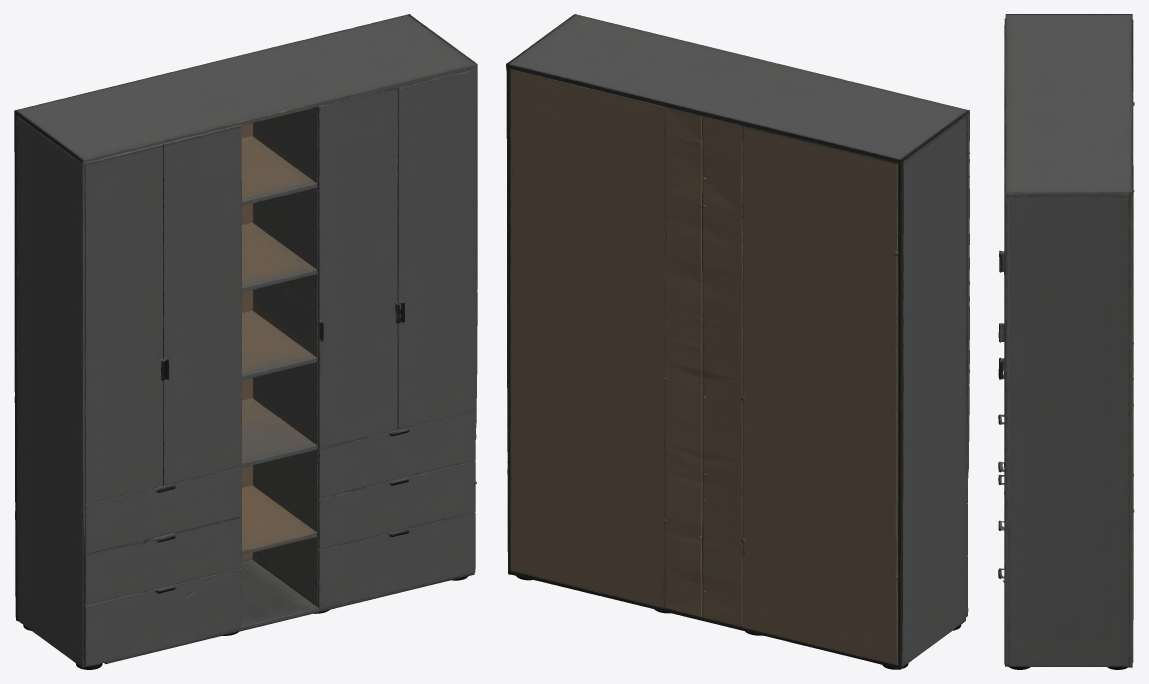
The model's file is No Name-08.glb.
3 renders of one model, left to right at view 1: azimuth 30°, elevation 25°; view 2: azimuth 150°, elevation 25°; view 3: azimuth 270°, elevation 25°, orthographic. The views are drawn at different scales.
Visible parts, largest first — view 1: tripo_node_bef338d6-f781-4804-a520-7391408199d0; view 2: tripo_node_bef338d6-f781-4804-a520-7391408199d0; view 3: tripo_node_bef338d6-f781-4804-a520-7391408199d0.
Boxes of the visible parts, x1,y1,x2,y2 form: tripo_node_bef338d6-f781-4804-a520-7391408199d0: (14, 14, 477, 669); tripo_node_bef338d6-f781-4804-a520-7391408199d0: (506, 14, 969, 669); tripo_node_bef338d6-f781-4804-a520-7391408199d0: (998, 14, 1134, 669).
Bounding box in the file's own units: 0.789 × 0.9792 × 0.2526.
1 material, 1 textured.
